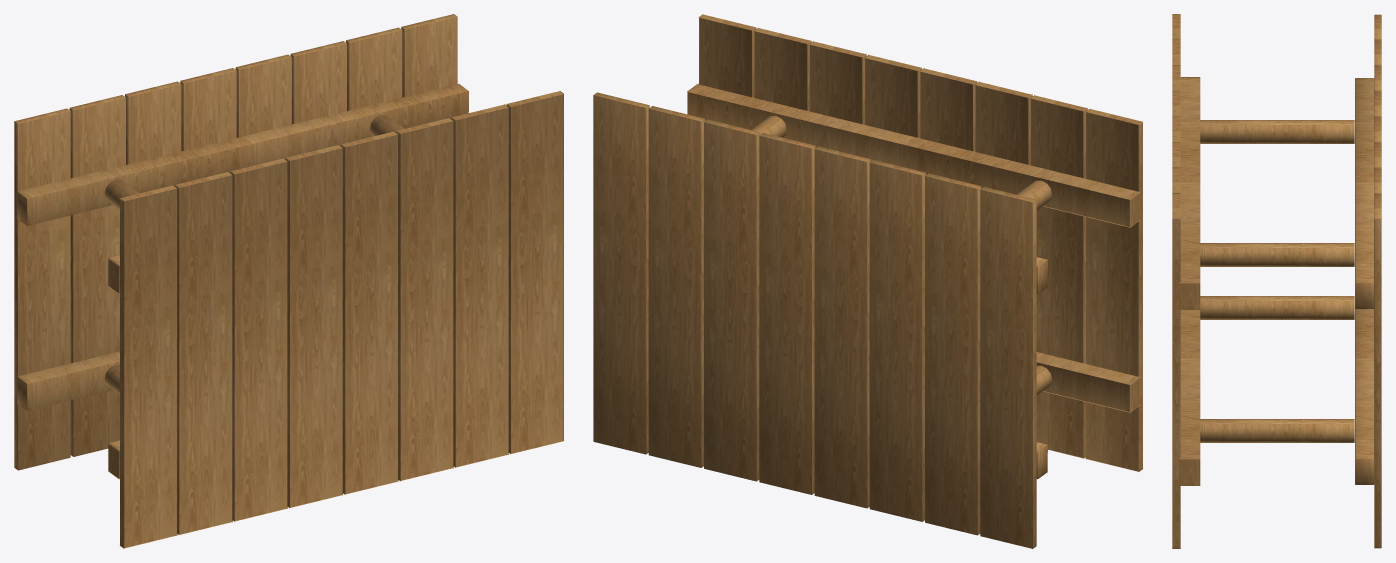
Rendered from TER-ESR-001_lod1.glb.
3 views of the same model, side by side, from view 1: azimuth 30°, elevation 25°; view 2: azimuth 150°, elevation 25°; view 3: azimuth 270°, elevation 25° (orthographic). The views are drawn at different scales.
Parts seen in each view (by area): view 1: TER-ESR-001, TER-ESR-001_longarina1_1.15, TER-ESR-001_longarina1_0.35; view 2: TER-ESR-001, TER-ESR-001_longarina-1_1.15, TER-ESR-001_longarina-1_0.35; view 3: TER-ESR-001, TER-ESR-001_longarina-1_1.15, TER-ESR-001_longarina1_1.15, TER-ESR-001_longarina-1_0.35, TER-ESR-001_estronca0.6_0.35, TER-ESR-001_estronca0.6_1.15, TER-ESR-001_estronca-0.6_0.35, TER-ESR-001_estronca-0.6_1.15, TER-ESR-001_longarina1_0.35.
Part boxes in pixels (box(x1,y1,x2,y2)): TER-ESR-001: box(14, 14, 563, 548); TER-ESR-001_longarina1_1.15: box(17, 84, 468, 225); TER-ESR-001_longarina1_0.35: box(17, 351, 119, 410); TER-ESR-001: box(593, 14, 1142, 548); TER-ESR-001_longarina-1_1.15: box(687, 83, 1140, 227); TER-ESR-001_longarina-1_0.35: box(1036, 352, 1140, 412); TER-ESR-001: box(1172, 14, 1381, 548); TER-ESR-001_longarina-1_1.15: box(1179, 77, 1200, 309); TER-ESR-001_longarina1_1.15: box(1355, 78, 1374, 308); TER-ESR-001_longarina-1_0.35: box(1179, 310, 1200, 485); TER-ESR-001_estronca0.6_0.35: box(1200, 419, 1354, 442); TER-ESR-001_estronca0.6_1.15: box(1200, 243, 1354, 266); TER-ESR-001_estronca-0.6_0.35: box(1200, 296, 1354, 319); TER-ESR-001_estronca-0.6_1.15: box(1200, 120, 1354, 143); TER-ESR-001_longarina1_0.35: box(1355, 309, 1374, 484).
Bounding box in the file's own units: 2.01 × 1.5 × 0.862.
Materials: 1 (1 with a texture image).
